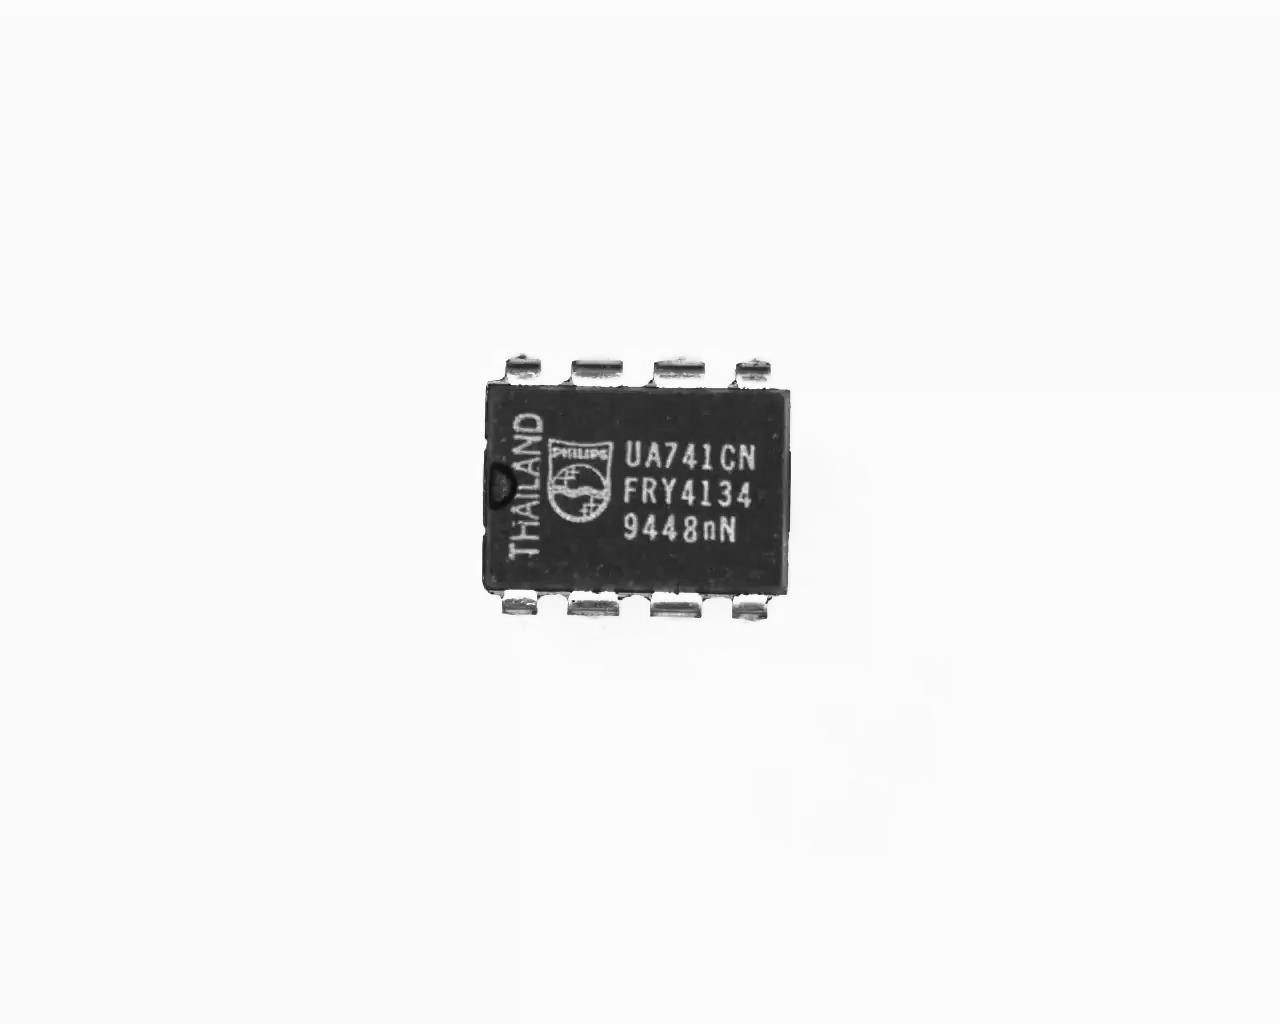Leg: (558, 347, 637, 390), (651, 351, 713, 397), (555, 590, 631, 623), (729, 343, 777, 394), (638, 592, 708, 621), (496, 353, 553, 388), (489, 585, 541, 620), (723, 595, 775, 627)
